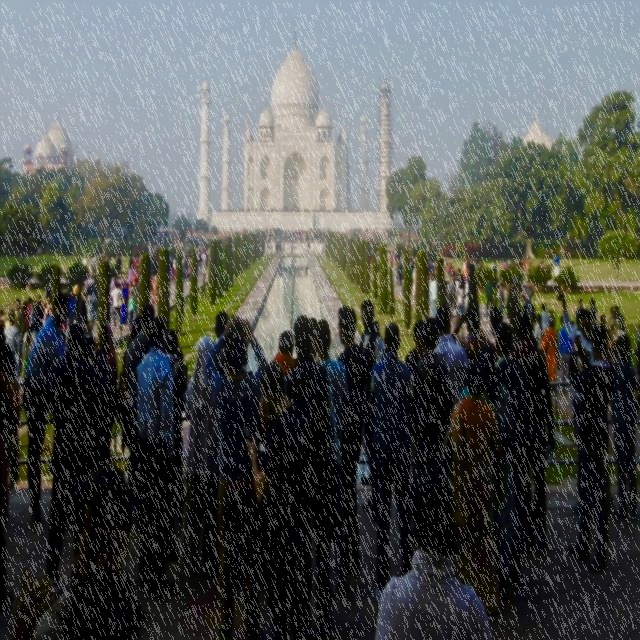pessoa: (204, 314, 270, 640), (375, 463, 493, 640), (43, 323, 116, 604), (33, 465, 146, 640), (246, 358, 314, 640), (284, 314, 338, 636), (450, 362, 500, 618), (567, 323, 617, 573), (488, 321, 536, 578), (136, 314, 177, 596), (372, 324, 413, 604), (510, 311, 557, 554), (0, 324, 38, 621), (23, 292, 70, 522), (478, 342, 518, 601), (492, 320, 528, 578), (183, 334, 220, 580), (336, 304, 368, 576), (556, 290, 594, 517), (125, 302, 156, 538), (408, 317, 452, 477), (359, 297, 385, 514), (610, 334, 639, 524), (344, 221, 424, 286), (314, 317, 350, 457), (170, 324, 188, 562), (122, 315, 142, 518), (433, 305, 472, 406), (96, 322, 118, 468), (214, 316, 256, 382), (212, 223, 342, 243), (462, 305, 494, 363), (206, 205, 374, 215), (268, 330, 296, 377), (558, 314, 574, 394), (3, 314, 21, 382), (540, 319, 559, 382), (598, 306, 626, 346), (305, 313, 323, 374), (426, 233, 440, 310), (404, 318, 422, 374), (272, 259, 310, 284), (167, 230, 183, 284), (443, 268, 459, 320), (136, 228, 168, 254), (61, 282, 80, 323), (506, 274, 521, 323), (14, 298, 26, 358), (110, 282, 124, 331), (19, 300, 31, 354), (534, 312, 548, 354), (149, 255, 160, 308), (86, 288, 98, 336), (198, 233, 214, 268), (125, 252, 143, 283), (213, 310, 229, 344), (462, 256, 484, 280), (47, 234, 83, 248), (182, 228, 196, 262), (78, 292, 88, 338), (88, 281, 99, 322), (33, 298, 44, 338), (522, 279, 534, 315), (119, 282, 129, 325), (95, 253, 116, 273), (484, 276, 494, 316), (635, 321, 639, 421), (429, 276, 438, 320), (126, 293, 136, 332), (454, 282, 464, 318), (496, 282, 506, 316), (41, 296, 52, 326), (540, 302, 552, 328), (529, 304, 538, 336), (132, 278, 139, 318), (30, 294, 45, 312), (110, 276, 116, 316), (567, 234, 584, 248), (589, 297, 598, 322), (576, 298, 584, 325), (464, 279, 472, 304), (5, 309, 16, 327), (411, 268, 417, 298), (44, 282, 52, 304), (444, 280, 450, 308), (116, 253, 122, 280), (118, 284, 125, 307), (446, 278, 454, 298), (90, 254, 96, 280), (554, 252, 560, 276), (546, 258, 552, 282), (567, 316, 576, 332), (187, 254, 192, 282), (183, 254, 188, 282), (88, 255, 94, 278), (75, 256, 81, 277), (502, 258, 507, 282), (394, 262, 399, 286), (0, 304, 6, 324), (448, 262, 455, 278), (202, 250, 206, 277), (518, 258, 522, 284), (522, 256, 526, 280), (198, 250, 202, 274), (274, 242, 281, 255), (128, 280, 134, 295), (492, 261, 498, 275), (27, 297, 32, 313), (82, 254, 88, 267), (392, 249, 396, 267), (445, 262, 450, 276), (29, 310, 34, 324), (394, 248, 398, 265), (290, 238, 294, 254), (282, 240, 286, 256), (512, 258, 515, 278), (106, 234, 112, 244), (528, 256, 532, 270), (321, 241, 325, 255), (306, 240, 310, 254), (540, 260, 545, 271), (457, 268, 462, 279), (122, 280, 126, 292), (266, 242, 270, 254), (270, 243, 273, 254), (508, 258, 511, 266), (515, 261, 518, 266)
